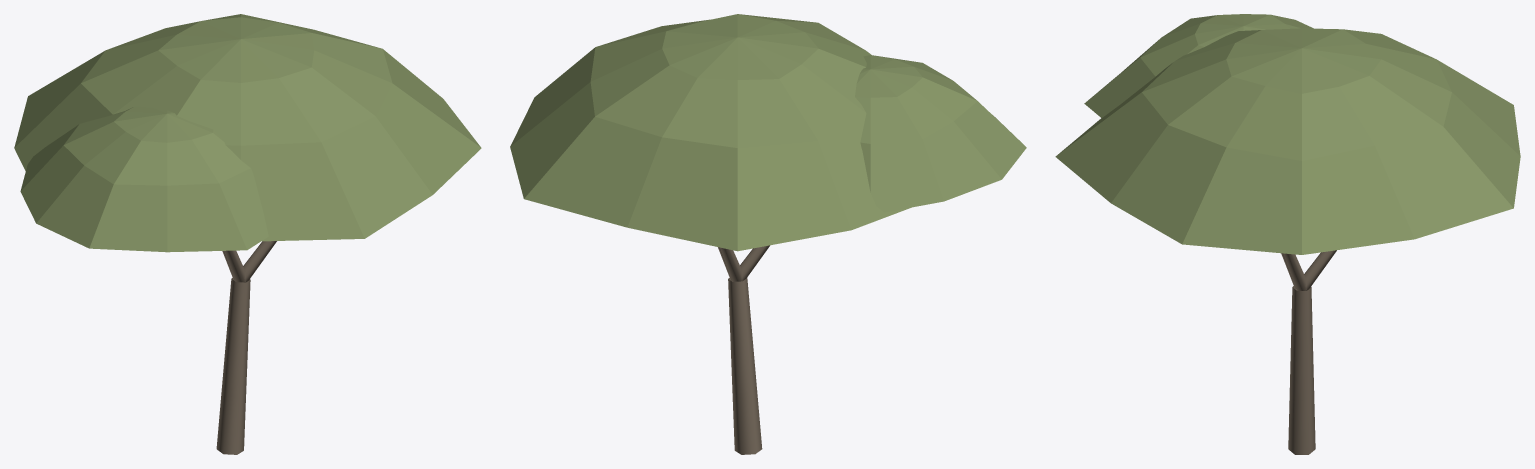
File: acacia_small_LOD1.fbx
3 renders of one model, left to right at view 1: azimuth 30°, elevation 25°; view 2: azimuth 150°, elevation 25°; view 3: azimuth 270°, elevation 25°, orthographic.
Visible parts, largest first — view 1: acacia_small_LOD1; view 2: acacia_small_LOD1; view 3: acacia_small_LOD1.
Part boxes in pixels (x1,y1,x2,y2): acacia_small_LOD1: [14, 14, 481, 454]; acacia_small_LOD1: [510, 14, 1026, 454]; acacia_small_LOD1: [1055, 14, 1520, 454].
Size of the model in its own units: 7.33 by 6.56 by 6.8.
